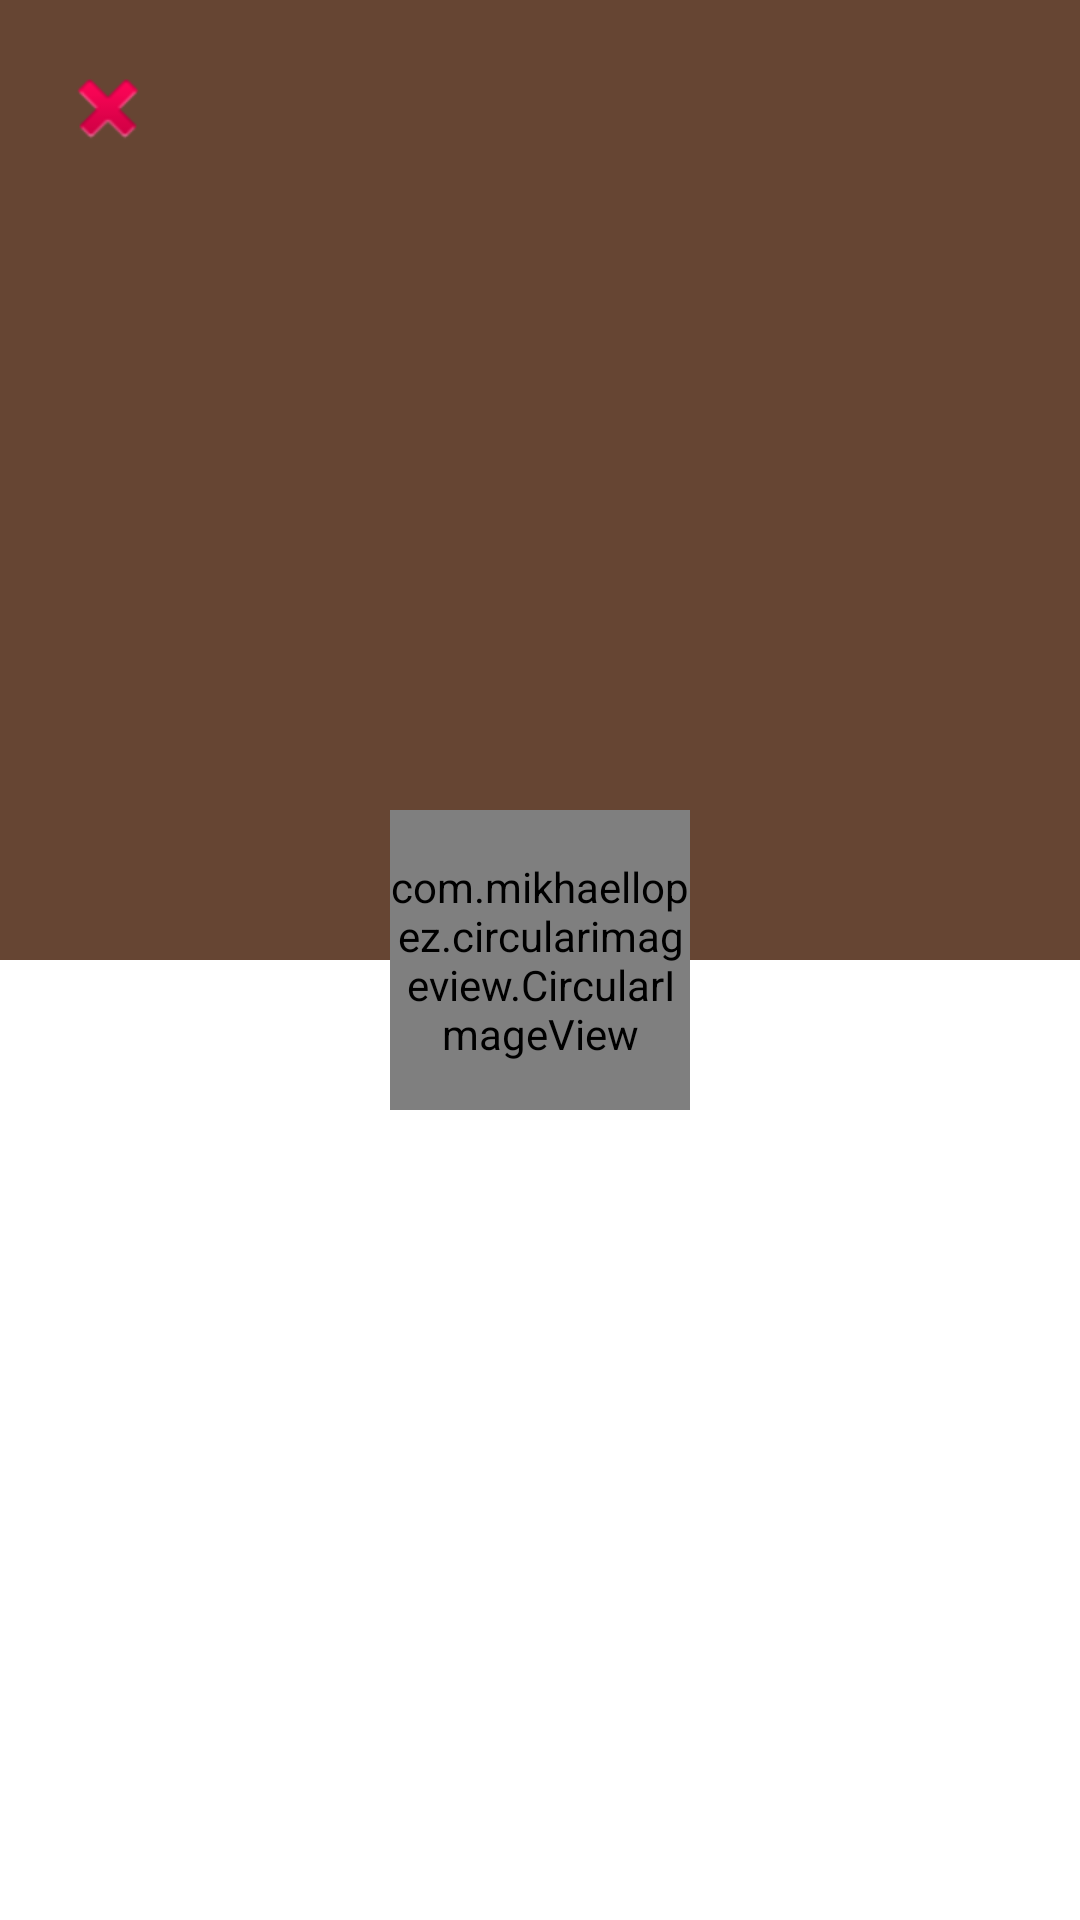

Icon bounding boxes for this 1080 × 1920 phone screenshot, format (x1, y1, x2, y2):
delete: (78, 79, 138, 138)
